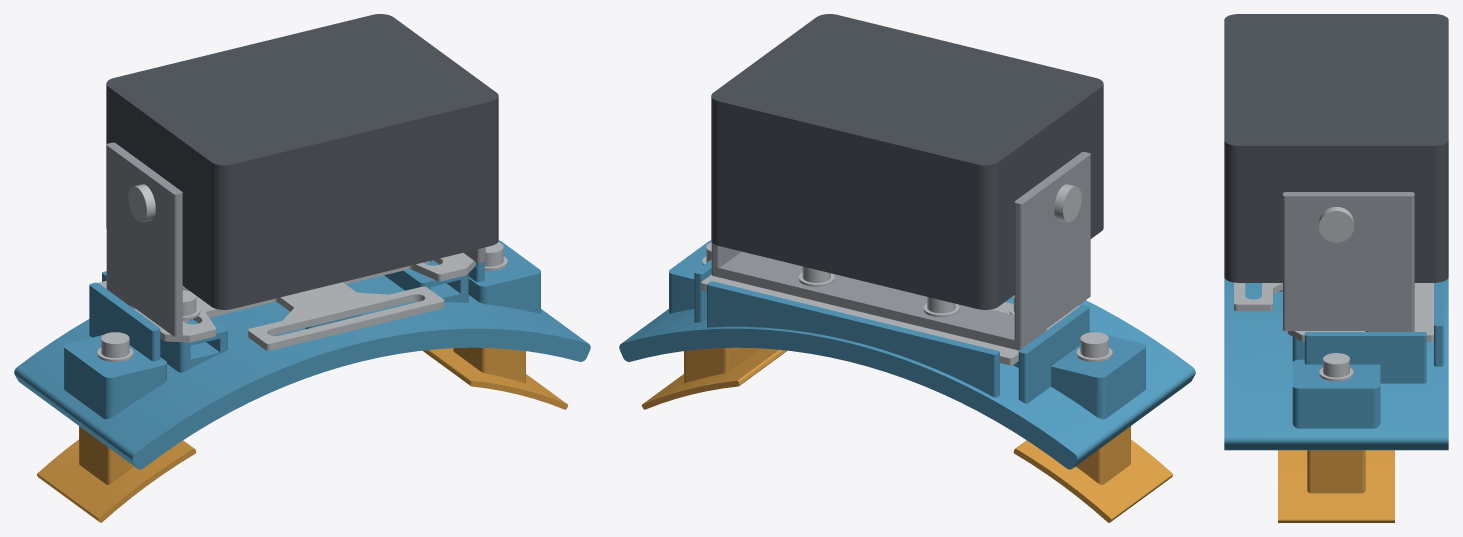
File: BOZZA_R04_ASSIEME_SCHEMATICO_NON_STAMPARE.glb
3 renders of one model, left to right at view 1: azimuth 30°, elevation 25°; view 2: azimuth 150°, elevation 25°; view 3: azimuth 270°, elevation 25°, orthographic. The views are drawn at different scales.
Parts seen in each view (by area): view 1: torcia, base, U_metallica, farfalla, fermo_sx, fermo_dx, viti_fermi, perni_torcia_originali; view 2: torcia, base, U_metallica, fermo_sx, fermo_dx, farfalla, fissaggi_U_originali, viti_fermi, perni_torcia_originali; view 3: torcia, base, U_metallica, fermo_dx, farfalla, perni_torcia_originali, viti_fermi.
Boxes of the visible parts, x1,y1,x2,y2 form: torcia: [106, 14, 498, 309]; base: [14, 240, 590, 469]; U_metallica: [106, 142, 485, 336]; farfalla: [98, 253, 475, 350]; fermo_sx: [37, 426, 196, 522]; fermo_dx: [423, 347, 568, 409]; viti_fermi: [97, 242, 507, 361]; perni_torcia_originali: [128, 184, 155, 222]; torcia: [711, 14, 1103, 309]; base: [619, 240, 1195, 469]; U_metallica: [711, 152, 1090, 350]; fermo_sx: [1013, 426, 1172, 522]; fermo_dx: [641, 347, 786, 409]; farfalla: [701, 274, 1079, 365]; fissaggi_U_originali: [798, 266, 959, 317]; viti_fermi: [702, 242, 1112, 361]; perni_torcia_originali: [1054, 184, 1081, 222]; torcia: [1224, 14, 1448, 282]; base: [1224, 278, 1448, 450]; U_metallica: [1283, 192, 1414, 331]; fermo_dx: [1278, 450, 1394, 522]; farfalla: [1234, 282, 1433, 341]; perni_torcia_originali: [1319, 207, 1353, 242]; viti_fermi: [1319, 353, 1353, 381].
Size of the model in its own units: 0.1054 by 0.0759 by 0.046.
